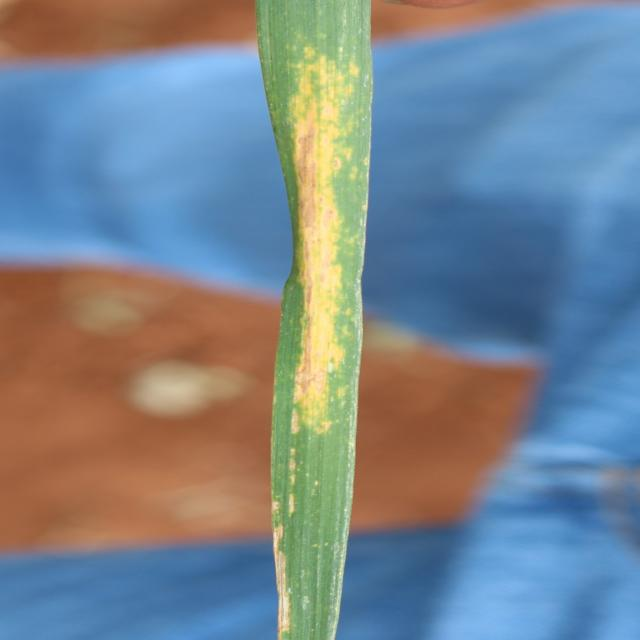Septoria: (294, 48, 339, 429)
